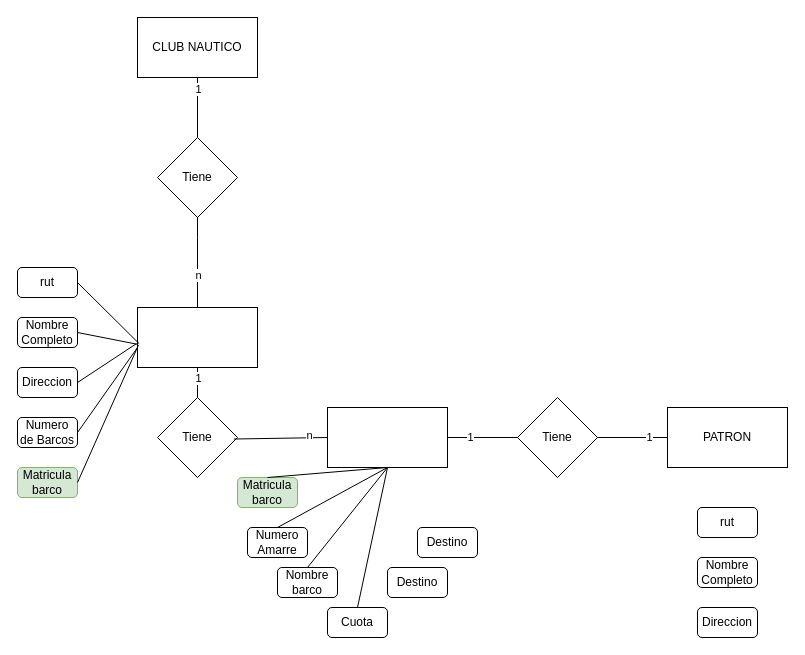
Image size: 805x655. Some labels were removed from this diagram. Here are the shapes that lost their labels. From the top down, the box of each, then its label:
(136, 306, 258, 368): SOCIO
(326, 406, 448, 468): BARCO
